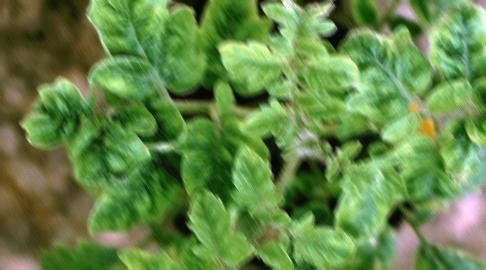Tomato leaf yellow virus: (82, 0, 195, 102), (343, 17, 448, 122), (82, 142, 182, 235), (185, 184, 257, 270), (421, 0, 486, 93), (335, 171, 403, 246), (219, 29, 295, 94), (284, 212, 362, 270), (293, 46, 368, 100)
